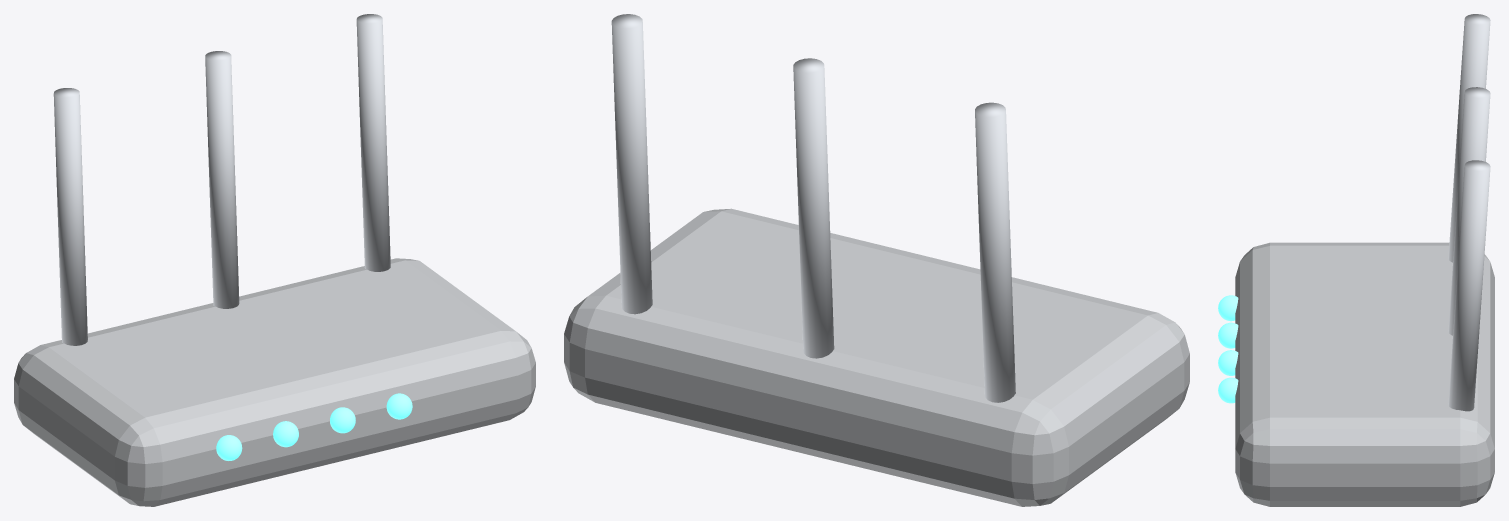
File: router.glb
3 renders of one model, left to right at view 1: azimuth 30°, elevation 25°; view 2: azimuth 150°, elevation 25°; view 3: azimuth 270°, elevation 25°, orthographic. The views are drawn at different scales.
Parts seen in each view (by area): view 1: Cube, Cylinder.001, Cylinder.002, Cylinder; view 2: Cube, Cylinder, Cylinder.001, Cylinder.002; view 3: Cube, Cylinder.002, Cylinder.001, Cylinder, Sphere.003, Sphere.001, Sphere, Sphere.002.
Part boxes in pixels (left/top/right/bottom): Cube: left=14, top=258, right=535, bottom=506; Cylinder.001: left=205, top=51, right=239, bottom=308; Cylinder.002: left=356, top=14, right=390, bottom=271; Cylinder: left=53, top=88, right=87, bottom=345; Cube: left=564, top=208, right=1189, bottom=506; Cylinder: left=975, top=102, right=1015, bottom=402; Cylinder.001: left=793, top=58, right=834, bottom=358; Cylinder.002: left=611, top=14, right=652, bottom=314; Cube: left=1235, top=242, right=1494, bottom=506; Cylinder.002: left=1448, top=160, right=1490, bottom=411; Cylinder.001: left=1448, top=87, right=1490, bottom=335; Cylinder: left=1448, top=14, right=1490, bottom=262; Sphere.003: left=1218, top=377, right=1238, bottom=403; Sphere.001: left=1218, top=322, right=1238, bottom=348; Sphere: left=1218, top=295, right=1238, bottom=321; Sphere.002: left=1218, top=350, right=1238, bottom=375.
Bounding box in the file's own units: 1.1 × 0.8318 × 0.64.
